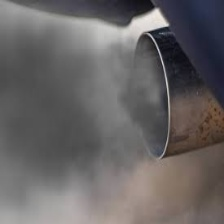smoke: (1, 31, 146, 215)
